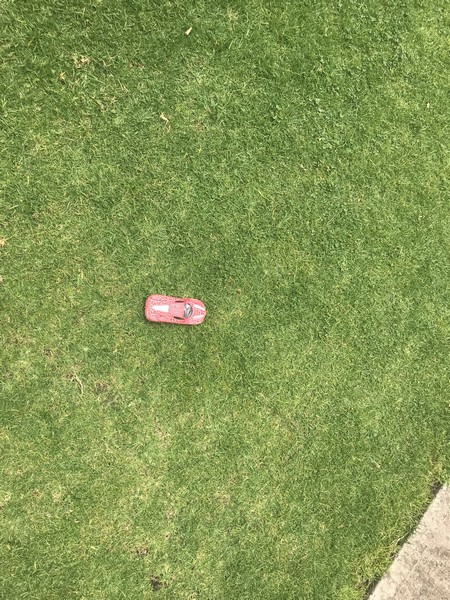RC: (143, 291, 207, 329)
